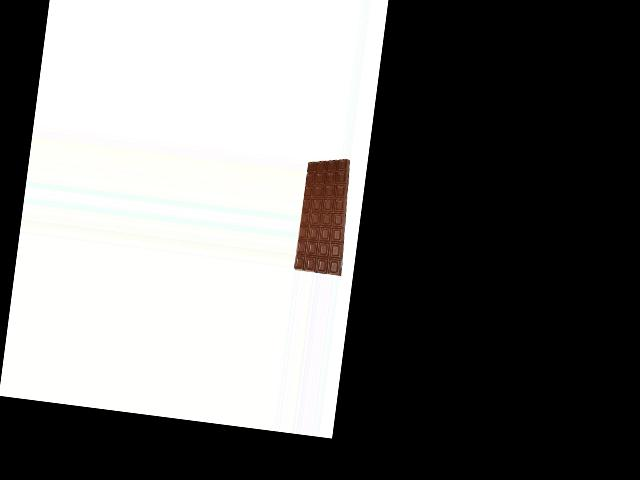chocolate: (293, 152, 354, 277)
